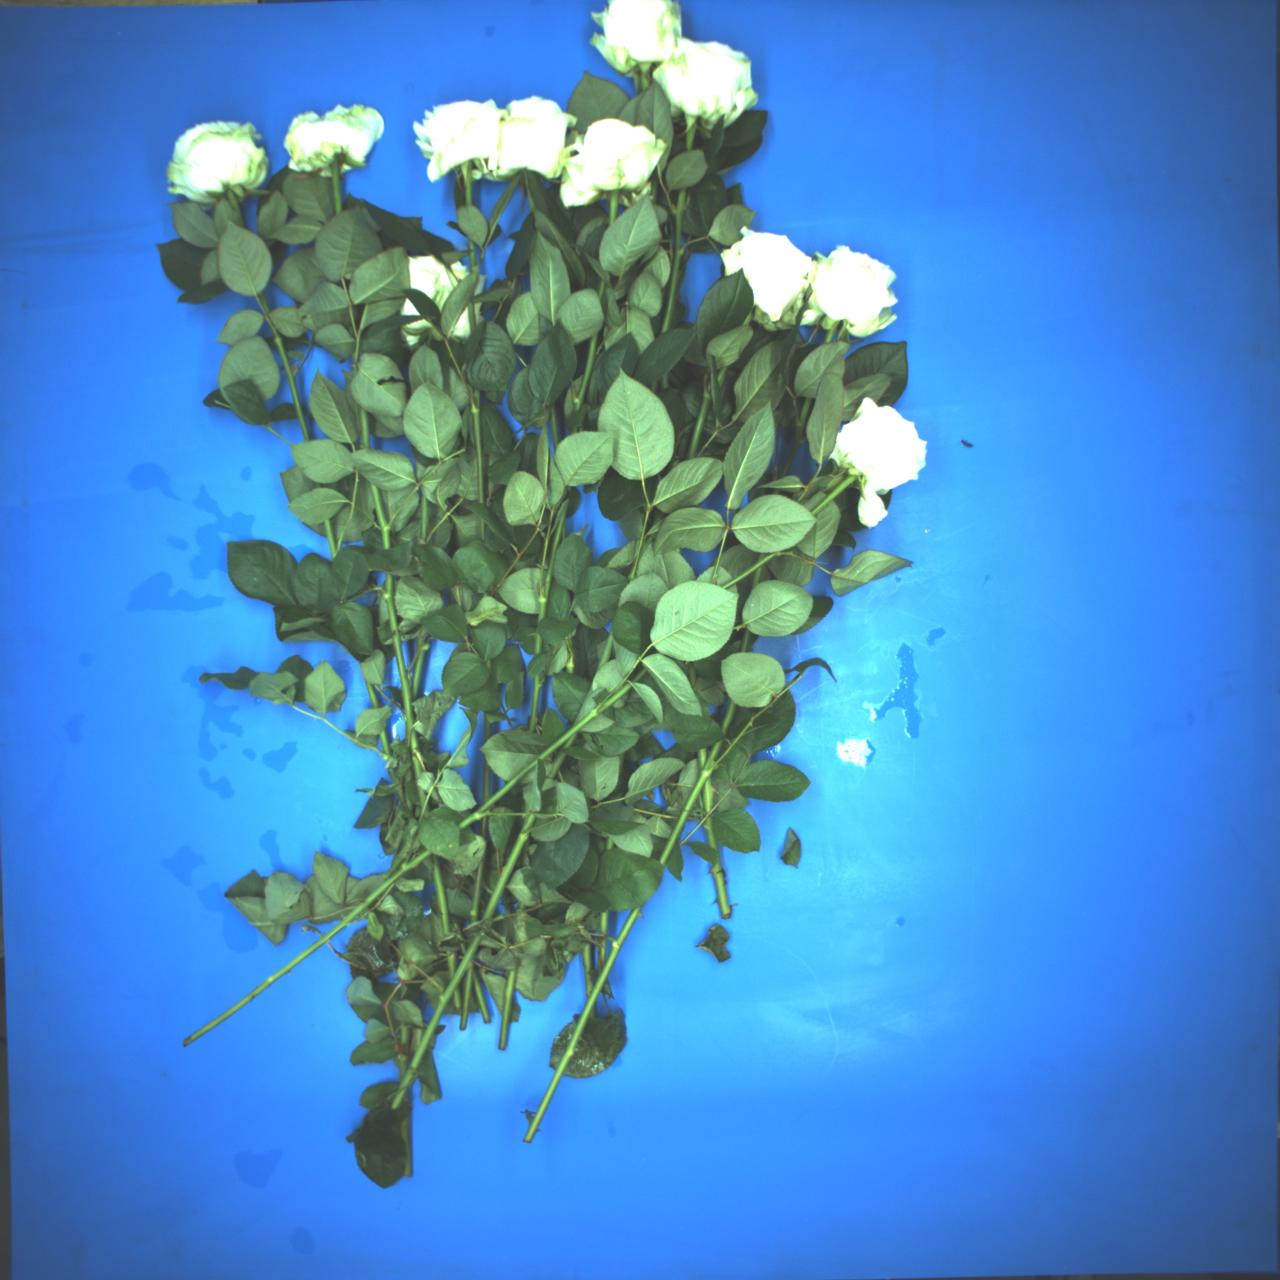Stem: (178, 846, 434, 1054), (390, 808, 537, 1116), (518, 905, 641, 1145), (369, 570, 440, 816), (653, 736, 729, 866), (537, 681, 633, 762), (455, 755, 540, 833), (654, 185, 693, 335), (273, 329, 311, 442), (535, 504, 570, 624), (429, 856, 456, 976), (570, 331, 604, 414), (720, 549, 782, 591), (686, 387, 715, 463), (367, 481, 396, 551), (809, 476, 855, 517), (498, 964, 518, 1050), (707, 862, 734, 920), (472, 388, 485, 505), (468, 966, 492, 1026), (700, 776, 719, 853), (408, 636, 428, 701), (225, 190, 247, 233), (461, 958, 474, 1032), (597, 628, 617, 674), (401, 1110, 414, 1176), (527, 673, 542, 733), (595, 910, 607, 974), (329, 157, 342, 215), (397, 1026, 410, 1083), (717, 701, 737, 735), (324, 518, 340, 559), (581, 938, 593, 995), (358, 406, 372, 450), (549, 403, 560, 455), (462, 162, 474, 206), (365, 679, 380, 709), (607, 190, 619, 227), (379, 728, 392, 757), (683, 122, 696, 151), (483, 758, 491, 801), (715, 363, 729, 387), (696, 745, 708, 772), (640, 70, 654, 93), (633, 667, 649, 686), (421, 496, 427, 543), (740, 631, 751, 654), (742, 307, 755, 328), (469, 240, 477, 272), (535, 631, 544, 658), (468, 304, 477, 331), (451, 986, 462, 1009), (483, 717, 491, 743), (659, 373, 669, 389), (649, 380, 660, 395), (559, 523, 566, 543)
flower: (801, 388, 942, 532), (645, 18, 774, 143), (714, 212, 835, 339), (554, 109, 669, 227), (157, 110, 273, 207), (804, 243, 906, 343), (409, 90, 513, 183), (280, 100, 389, 176), (490, 90, 574, 185), (592, 0, 679, 74), (396, 237, 470, 309), (447, 307, 482, 345), (396, 299, 420, 322)
